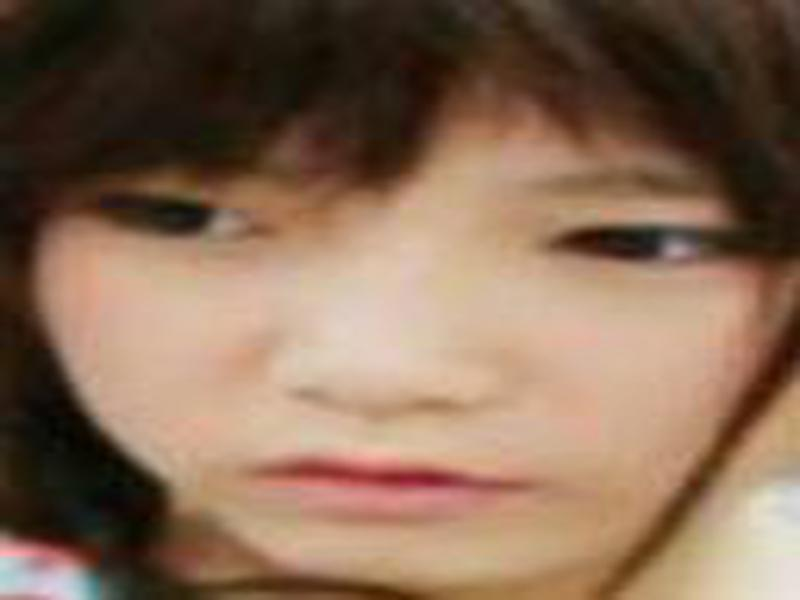without_mask: (48, 61, 780, 572)
